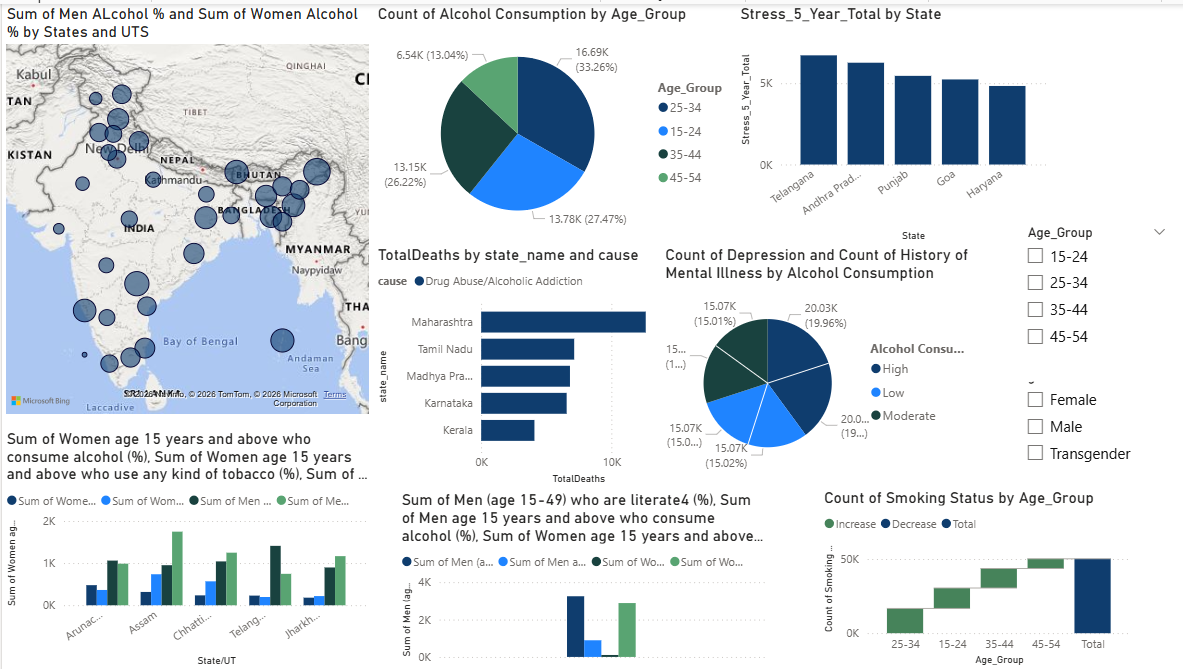

The page's visual inventory and layout, read from the dashboard file:
{"tool":"powerbi","page":{"name":"Page 1","canvas":[1280,720],"ordinal":0},"visuals":[{"type":"map","fields":{"Category":["Alcohol consumption.States and UTS"],"Size":["Sum(Alcohol consumption.Men %)"]},"box":[0,0,402,448],"z":0},{"type":"pieChart","fields":{"Category":["smoking.Age_Group"],"Y":["CountNonNull(smoking.Alcohol Consumption)"]},"box":[401.4,0,401.4,261.4],"z":1000},{"type":"clusteredBarChart","fields":{"Category":["suicides-by-causes.state_name"],"Y":["suicides-by-causes.Death Rate"],"Series":["suicides-by-causes.cause"]},"box":[401.4,260,342.9,262.9],"z":2000},{"type":"clusteredColumnChart","fields":{"Y":["Sum(Health care department report.Women age 15 years and above who consume alcohol (%))","Sum(Health care department report.Women age 15 years and above who use any kind of tobacco (%))","Sum(Health care department report.Men age 15 years and above who consume alcohol (%))","Sum(Health care department report.Men age 15 years and above who use any kind of tobacco (%))"],"Category":["Health care department report.State/UT"]},"box":[0,458.6,401.4,261.4],"z":3000},{"type":"clusteredColumnChart","fields":{"Y":["Sum(NFHS-5.Men (age 15-49) who are literate4 (%))","Sum(NFHS-5.Men age 15 years and above who consume alcohol (%))","Sum(NFHS-5.Women age 15 years and above who consume alcohol (%))","Sum(NFHS-5.Women (age 15-49) who are literate4 (%))"]},"box":[427.1,525.7,404.3,194.3],"z":4000},{"type":"clusteredColumnChart","fields":{"Y":["stress rate.Stress_5_Year_Total"],"Category":["stress rate.State"]},"box":[792.9,0,340,261.4],"z":5000},{"type":"pieChart","fields":{"Category":["smoking.Alcohol Consumption"],"Y":["CountNonNull(smoking.Family History of Depression)","CountNonNull(smoking.History of Mental Illness)"]},"box":[711.4,260,341.4,260],"z":6000},{"type":"waterfallChart","fields":{"Category":["smoking.Age_Group"],"Y":["CountNonNull(smoking.Smoking Status)"]},"box":[882.9,522.9,341.4,197.1],"z":7000},{"type":"slicer","fields":{"Values":["suicides-by-causes.gender"]},"box":[1095.7,388.6,184.3,121.4],"z":8000},{"type":"slicer","fields":{"Values":["smoking.Age_Group"]},"box":[1095.7,234.3,174.3,174.3],"z":9000}]}

Visuals, with their boxes in screenshot pixels (x1, y1, x2, y2), scaled from the page's 1280x720 canvas onto the 1183x669 screenshot:
map - Alcohol consumption.States and UTS x Sum(Alcohol consumption.Men %): <bbox>0, 0, 372, 416</bbox>
pieChart - smoking.Age_Group x CountNonNull(smoking.Alcohol Consumption): <bbox>371, 0, 742, 243</bbox>
clusteredBarChart - suicides-by-causes.state_name x suicides-by-causes.Death Rate: <bbox>371, 242, 688, 486</bbox>
clusteredColumnChart - Sum(Health care department report.Women age 15 years and above who consume alcohol (%)) x Sum(Health care department report.Women age 15 years and above who use any kind of tobacco (%)): <bbox>0, 426, 371, 668</bbox>
clusteredColumnChart - Sum(NFHS-5.Men (age 15-49) who are literate4 (%)) x Sum(NFHS-5.Men age 15 years and above who consume alcohol (%)): <bbox>395, 488, 768, 668</bbox>
clusteredColumnChart - stress rate.Stress_5_Year_Total x stress rate.State: <bbox>733, 0, 1047, 243</bbox>
pieChart - smoking.Alcohol Consumption x CountNonNull(smoking.Family History of Depression): <bbox>657, 242, 973, 483</bbox>
waterfallChart - smoking.Age_Group x CountNonNull(smoking.Smoking Status): <bbox>816, 486, 1132, 668</bbox>
slicer - suicides-by-causes.gender: <bbox>1013, 361, 1182, 474</bbox>
slicer - smoking.Age_Group: <bbox>1013, 218, 1174, 380</bbox>
